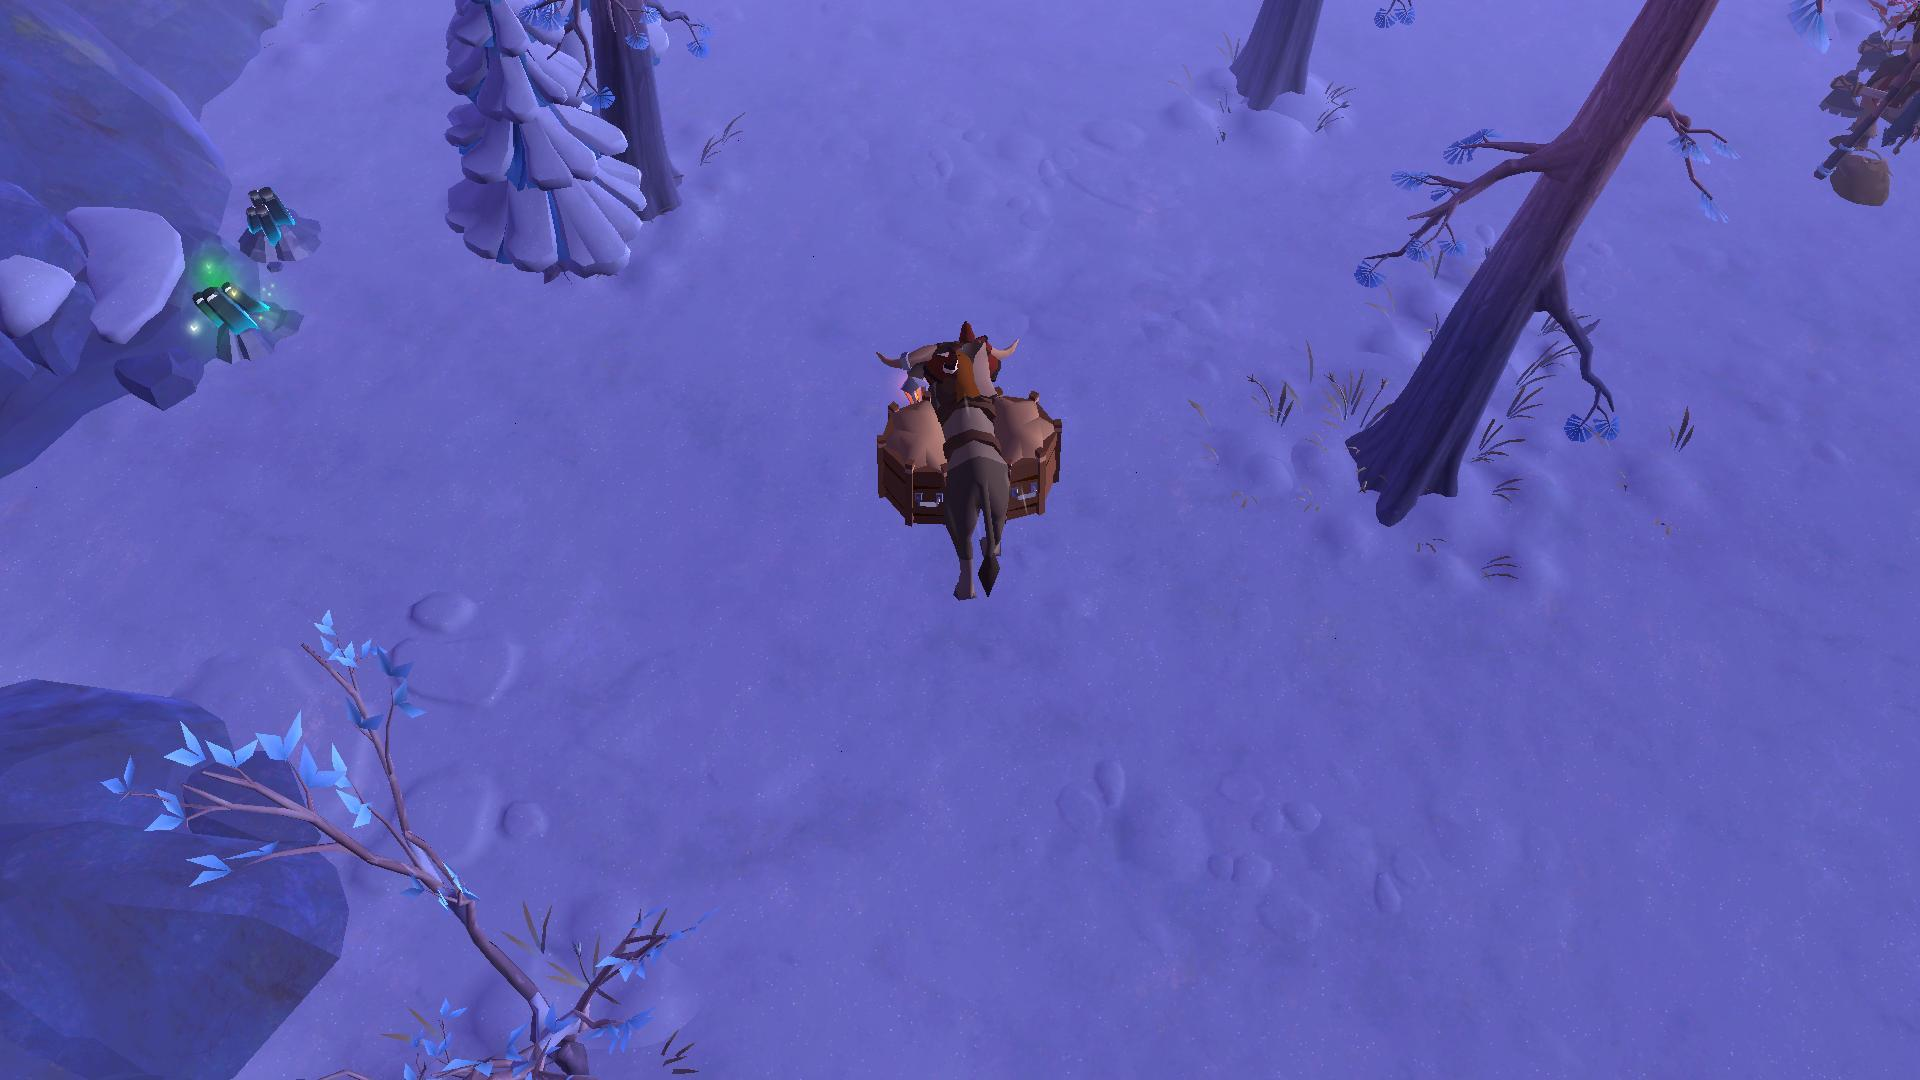ore_t4: (190, 277, 264, 344), (236, 178, 291, 249)
